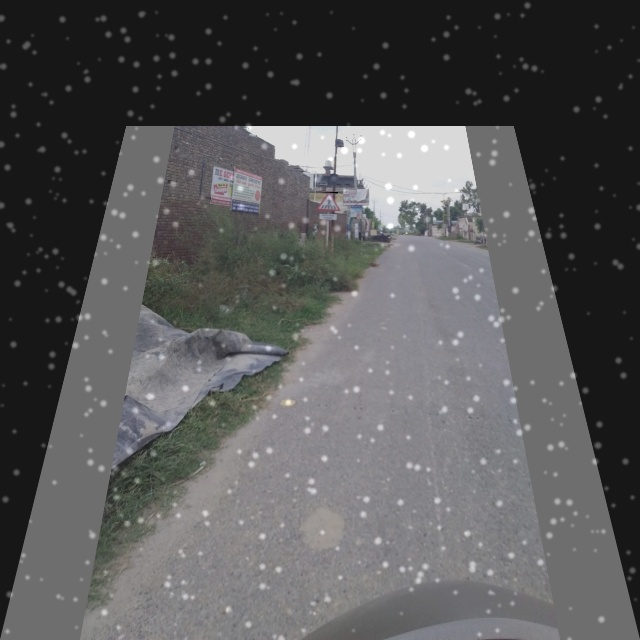Pedestrian_Crossing: (317, 192, 338, 214)
